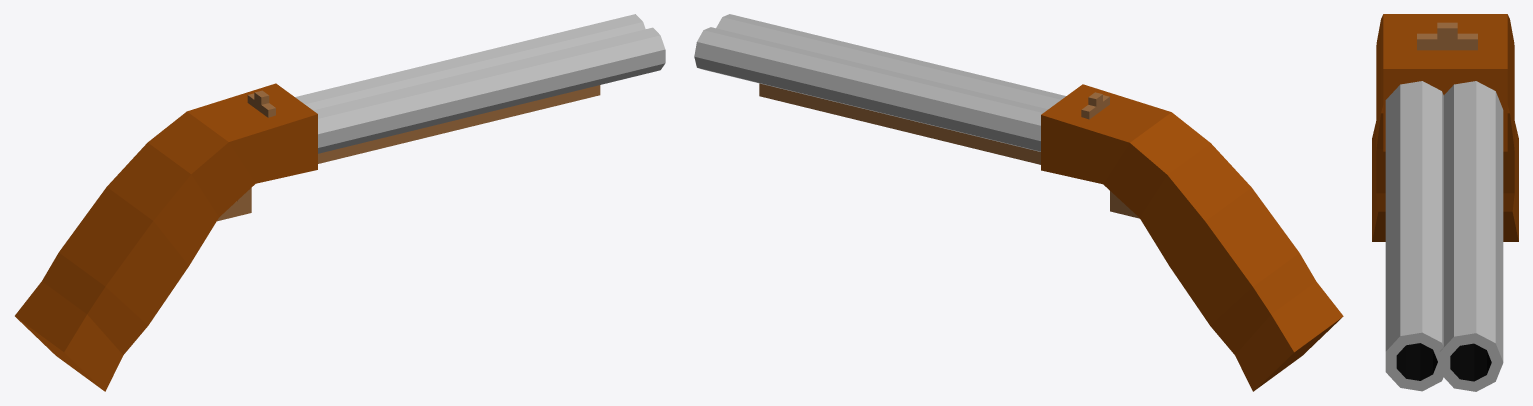
Rendered from two_barrel_shotgun.fbx.
3 renders of one model, left to right at view 1: azimuth 30°, elevation 25°; view 2: azimuth 150°, elevation 25°; view 3: azimuth 270°, elevation 25°, orthographic. The views are drawn at different scales.
Parts seen in each view (by area): view 1: Cube; view 2: Cube; view 3: Cube.
Boxes of the visible parts, x1,y1,x2,y2 form: Cube: [15, 14, 665, 391]; Cube: [694, 14, 1343, 391]; Cube: [1372, 14, 1518, 391].
Bounding box in the file's own units: 468 × 173 × 66.18.
